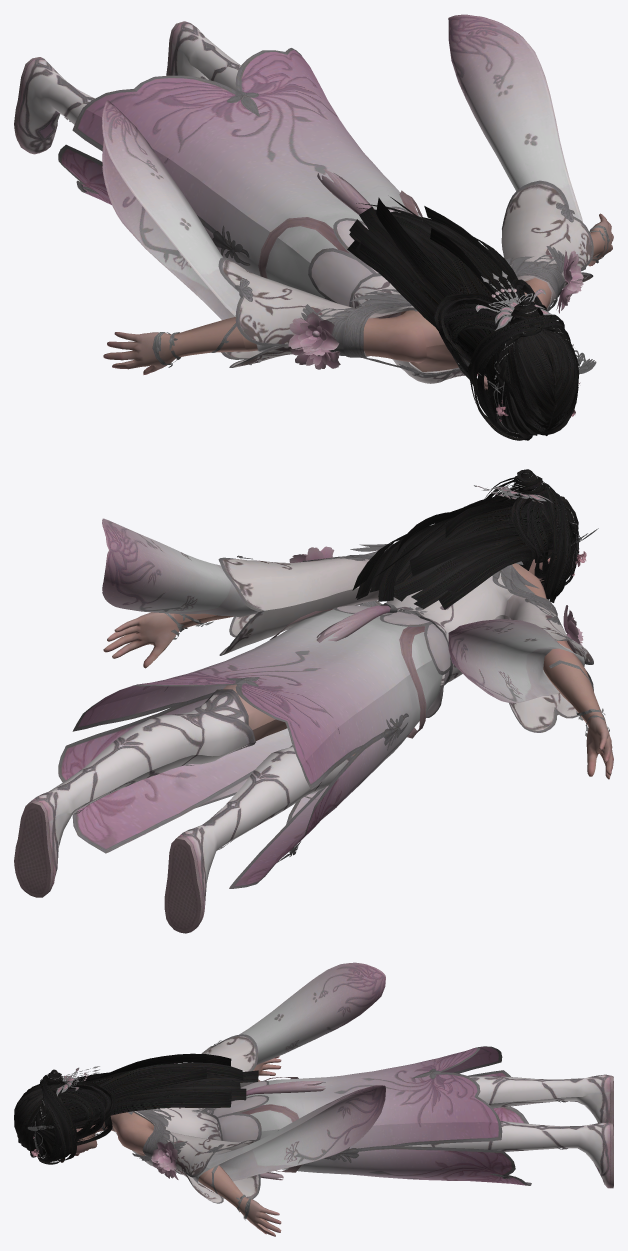
Rendered from model_PVE.obj.
3 renders of one model, top to bottom at view 1: azimuth 30°, elevation 25°; view 2: azimuth 150°, elevation 25°; view 3: azimuth 270°, elevation 25°, orthographic. The views are drawn at different scales.
Parts seen in each view (by area): view 1: mesh_11_759293, mesh_07_519499, mesh_12_974740, mesh_13_1064901, mesh_05_425755, mesh_01_146671, mesh_08_642644, mesh_10_692986, mesh_00_123841; view 2: mesh_07_519499, mesh_11_759293, mesh_05_425755, mesh_12_974740, mesh_01_146671, mesh_13_1064901, mesh_08_642644, mesh_06_501732, mesh_10_692986, mesh_00_123841; view 3: mesh_07_519499, mesh_11_759293, mesh_12_974740, mesh_05_425755, mesh_13_1064901, mesh_01_146671, mesh_08_642644, mesh_10_692986.
Boxes of the visible parts, x1,y1,x2,y2 form: mesh_11_759293: [102, 14, 593, 383]; mesh_07_519499: [58, 48, 422, 306]; mesh_12_974740: [347, 197, 546, 406]; mesh_13_1064901: [468, 300, 579, 440]; mesh_05_425755: [14, 21, 240, 154]; mesh_01_146671: [103, 213, 613, 374]; mesh_08_642644: [242, 278, 551, 371]; mesh_10_692986: [475, 288, 596, 432]; mesh_00_123841: [152, 225, 609, 367]; mesh_07_519499: [58, 603, 450, 888]; mesh_11_759293: [102, 518, 593, 732]; mesh_05_425755: [14, 689, 352, 933]; mesh_12_974740: [352, 493, 555, 609]; mesh_01_146671: [103, 612, 613, 779]; mesh_13_1064901: [484, 469, 579, 602]; mesh_08_642644: [512, 563, 585, 684]; mesh_06_501732: [223, 684, 355, 755]; mesh_10_692986: [474, 473, 598, 584]; mesh_00_123841: [165, 613, 609, 736]; mesh_07_519499: [192, 1046, 531, 1185]; mesh_11_759293: [101, 962, 385, 1203]; mesh_12_974740: [52, 1053, 258, 1149]; mesh_05_425755: [405, 1074, 613, 1188]; mesh_13_1064901: [14, 1069, 77, 1164]; mesh_01_146671: [203, 1056, 281, 1236]; mesh_08_642644: [100, 1112, 220, 1184]; mesh_10_692986: [27, 1067, 88, 1157].
Size of the model in its own units: 87.22 by 37.88 by 134.
Materials: 14 (14 with a texture image).
